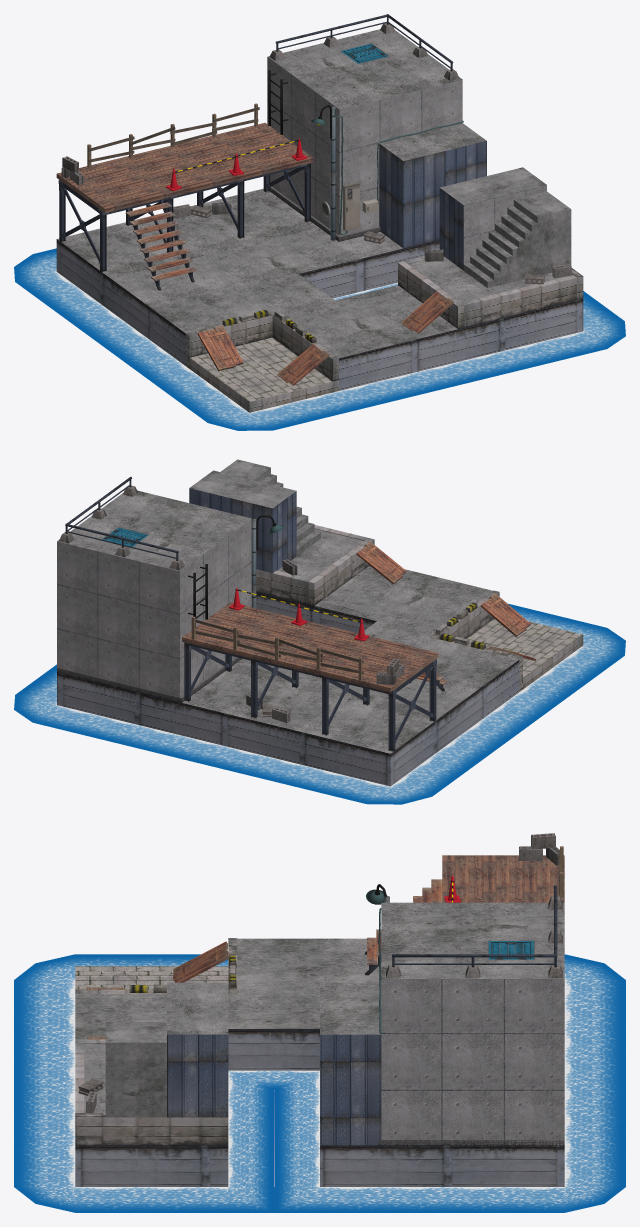
File: stage_Export_02.fbx
The picture shows the model from 3 angles, top to bottom: view 1: azimuth 30°, elevation 25°; view 2: azimuth 150°, elevation 25°; view 3: azimuth 270°, elevation 25°; orthographic projection. The views are drawn at different scales.
Visible parts, largest first — view 1: Cube, Cube.002, nami_01, Cube.001, Cube.003, Cube.004, step_conk, Cube.007, saku_01.003, ita_hasi-P.002, ita_hasi-P.001, haiden1 (+3 smaller); view 2: Cube, Cube.002, nami_01, Cube.001, Cube.007, Cube.004, saku_01.003, step_conk, ita_hasi-P.001, ita_hasi-P.002, Cube.012, saku_01.005 (+1 smaller); view 3: nami_01, Cube.002, Cube, Cube.003, Cube.007, Cube.004, step_conk, Cube.001, saku_01.005, Cube.012.
Part boxes in pixels (x1,y1,x2,y2): Cube: (56, 188, 583, 412); Cube.002: (267, 29, 462, 235); nami_01: (14, 248, 625, 430); Cube.001: (56, 122, 313, 212); Cube.003: (379, 123, 486, 248); Cube.004: (398, 256, 583, 328); step_conk: (463, 191, 571, 288); Cube.007: (439, 167, 546, 270); saku_01.003: (87, 103, 259, 167); ita_hasi-P.002: (401, 291, 453, 333); ita_hasi-P.001: (277, 344, 329, 385); haiden1: (343, 182, 359, 230); Cube: (57, 565, 583, 786); Cube.002: (57, 490, 251, 697); nami_01: (14, 603, 625, 804); Cube.001: (182, 602, 438, 692); Cube.007: (189, 470, 296, 573); Cube.004: (256, 525, 374, 605); saku_01.003: (191, 616, 363, 680); step_conk: (220, 459, 320, 555); ita_hasi-P.001: (480, 593, 530, 636); ita_hasi-P.002: (356, 541, 406, 584); Cube.012: (57, 657, 242, 702); saku_01.005: (65, 477, 138, 530); nami_01: (14, 954, 625, 1212); Cube.002: (381, 902, 564, 1145); Cube: (75, 938, 564, 1186); Cube.003: (320, 982, 381, 1145); Cube.007: (167, 982, 228, 1117); Cube.004: (75, 1039, 228, 1145); step_conk: (105, 1022, 166, 1117); Cube.001: (442, 855, 564, 902); saku_01.005: (386, 954, 556, 978); Cube.012: (378, 1140, 564, 1145).
Bounding box in the file's own units: 2000 × 875 × 2000.
